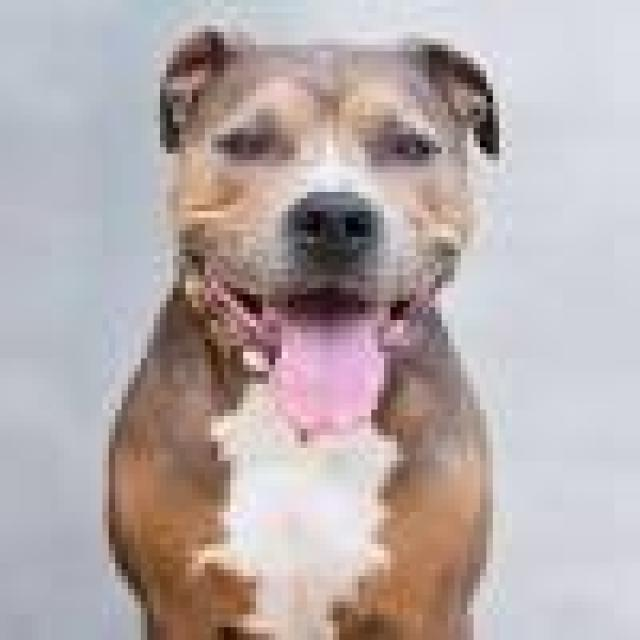Dog: (96, 13, 512, 640)
